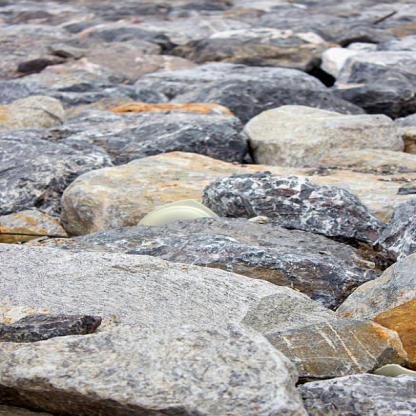Sedimentary_Limestone: (42, 199, 365, 303), (246, 86, 415, 180), (53, 102, 249, 177), (206, 168, 396, 236)
